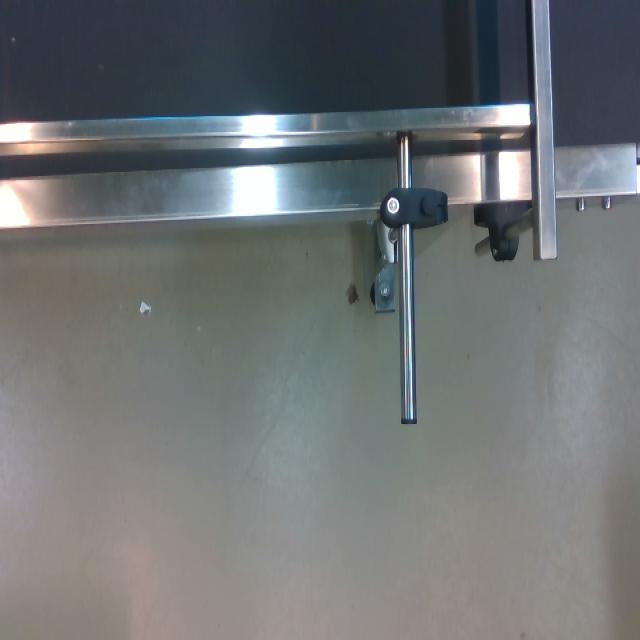conveyor: (0, 0, 640, 227)
